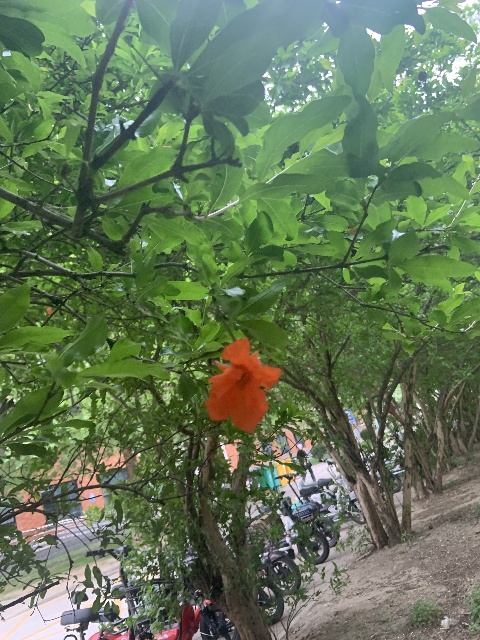flower: (204, 338, 280, 435)
